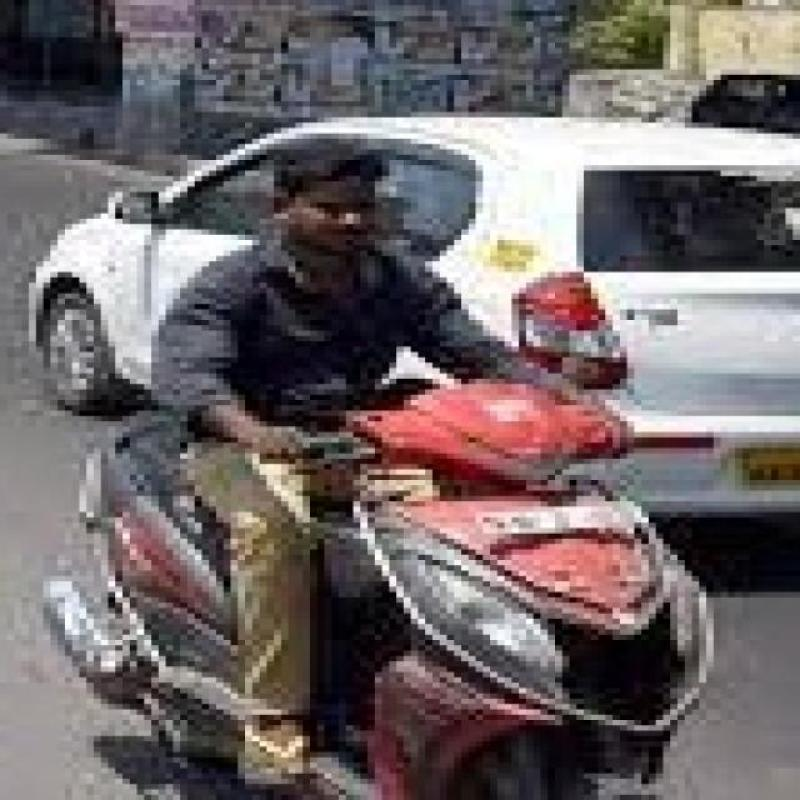nohelmet: (237, 131, 408, 260)
